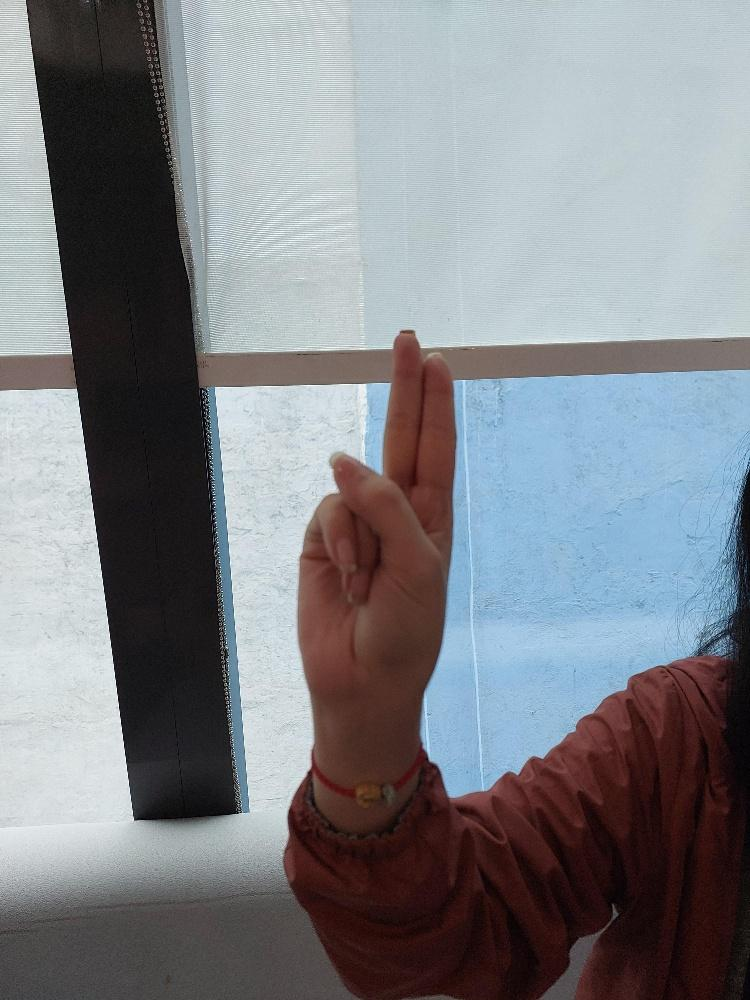u: (294, 326, 459, 716)
